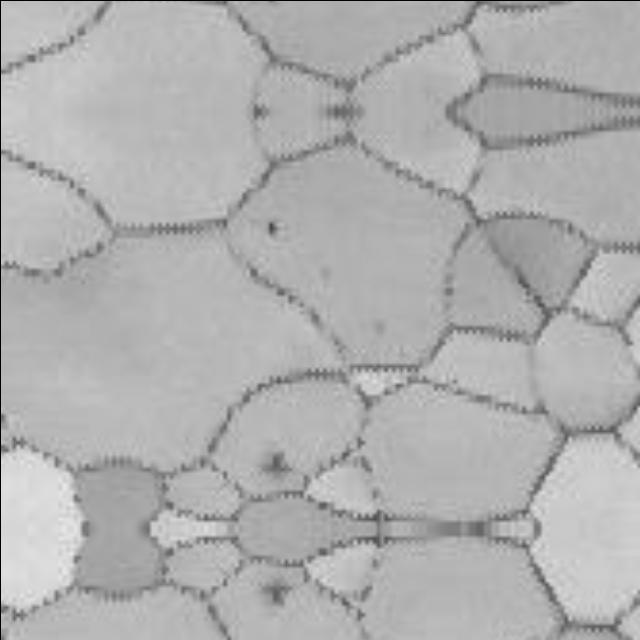good_void: (261, 452, 295, 475), (261, 583, 295, 606), (263, 219, 282, 238)
